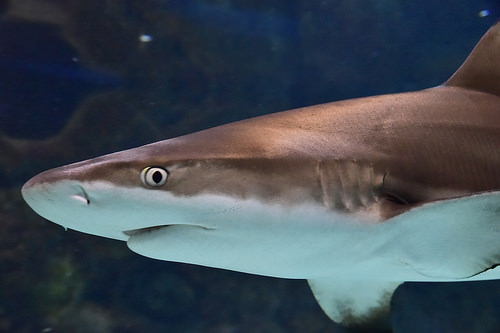shark: (12, 14, 497, 321)
